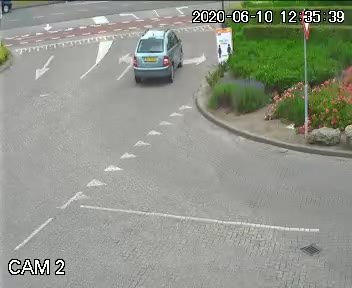car: (130, 23, 184, 88)
